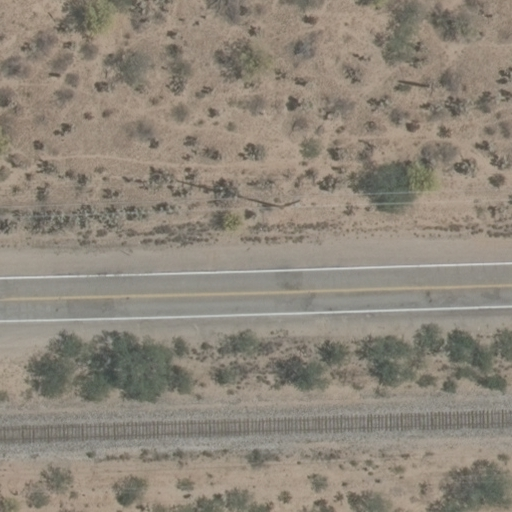DT: (283, 194, 308, 212)
